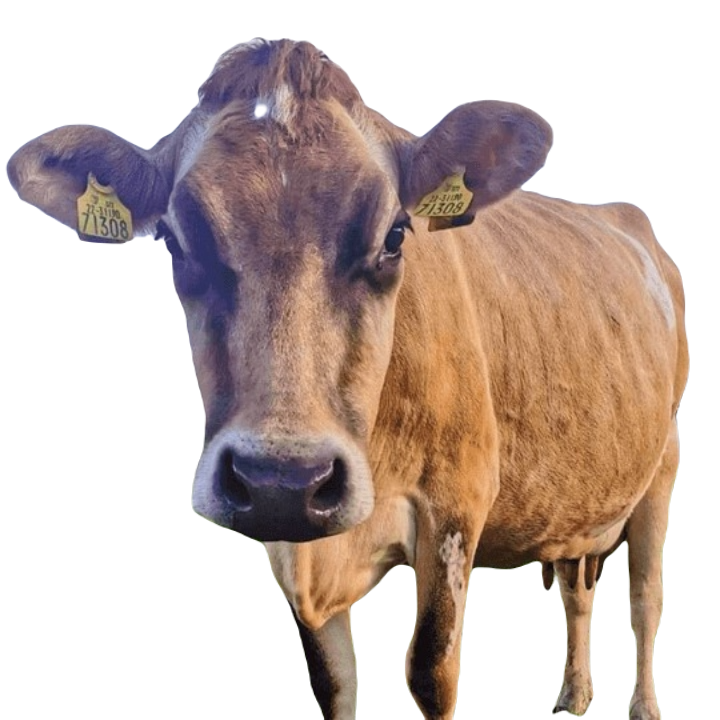Cow: (3, 37, 691, 719)
